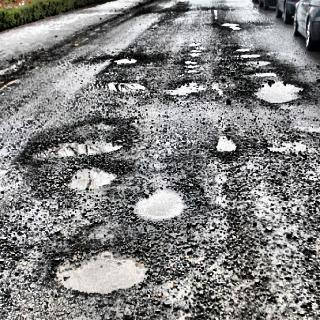pothole: (50, 234, 150, 302), (19, 119, 130, 170), (232, 46, 305, 107), (126, 183, 190, 231), (167, 41, 209, 99), (60, 163, 121, 197), (102, 52, 148, 94), (262, 134, 319, 157), (210, 128, 239, 154), (218, 16, 245, 33)
